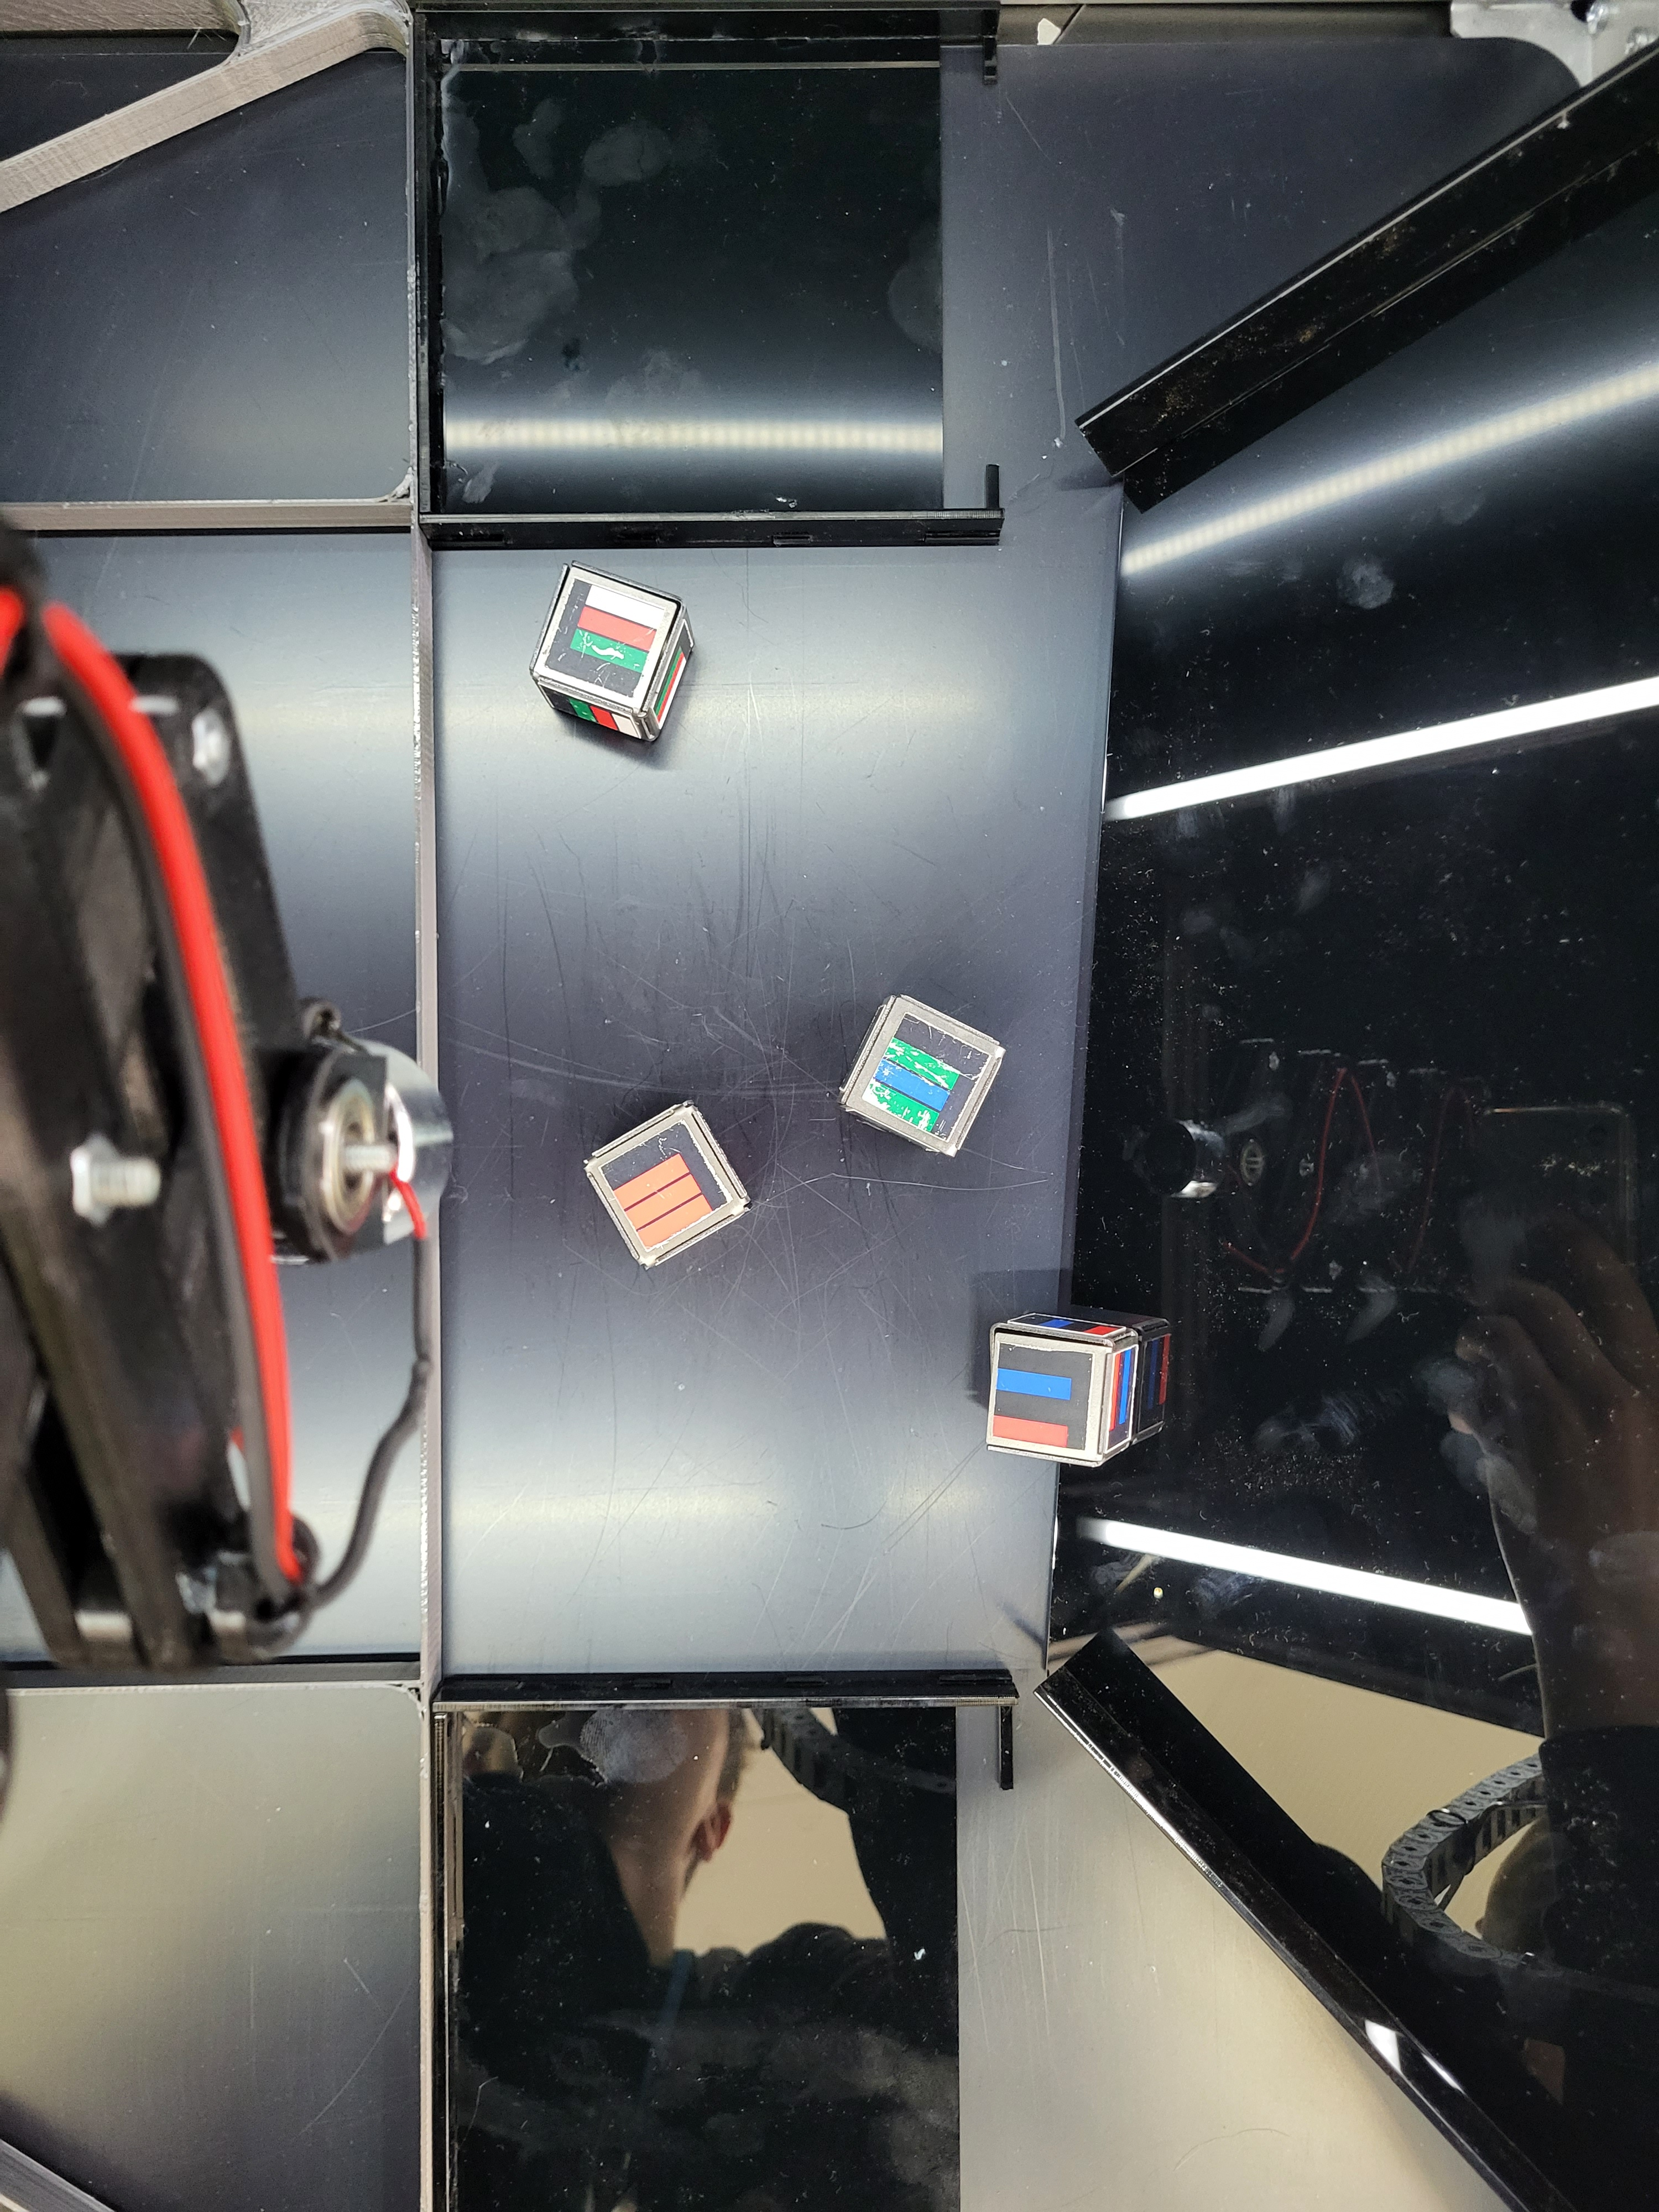Cube: (821, 963, 1018, 1169), (502, 550, 704, 744), (573, 1083, 763, 1289), (960, 1294, 1147, 1482)
